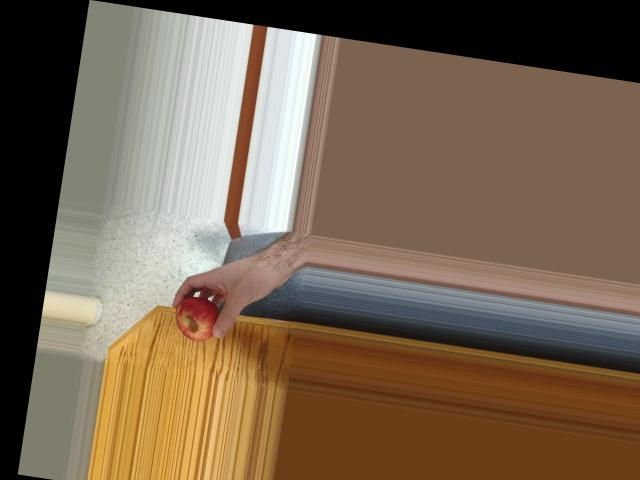apple: (169, 292, 227, 346)
